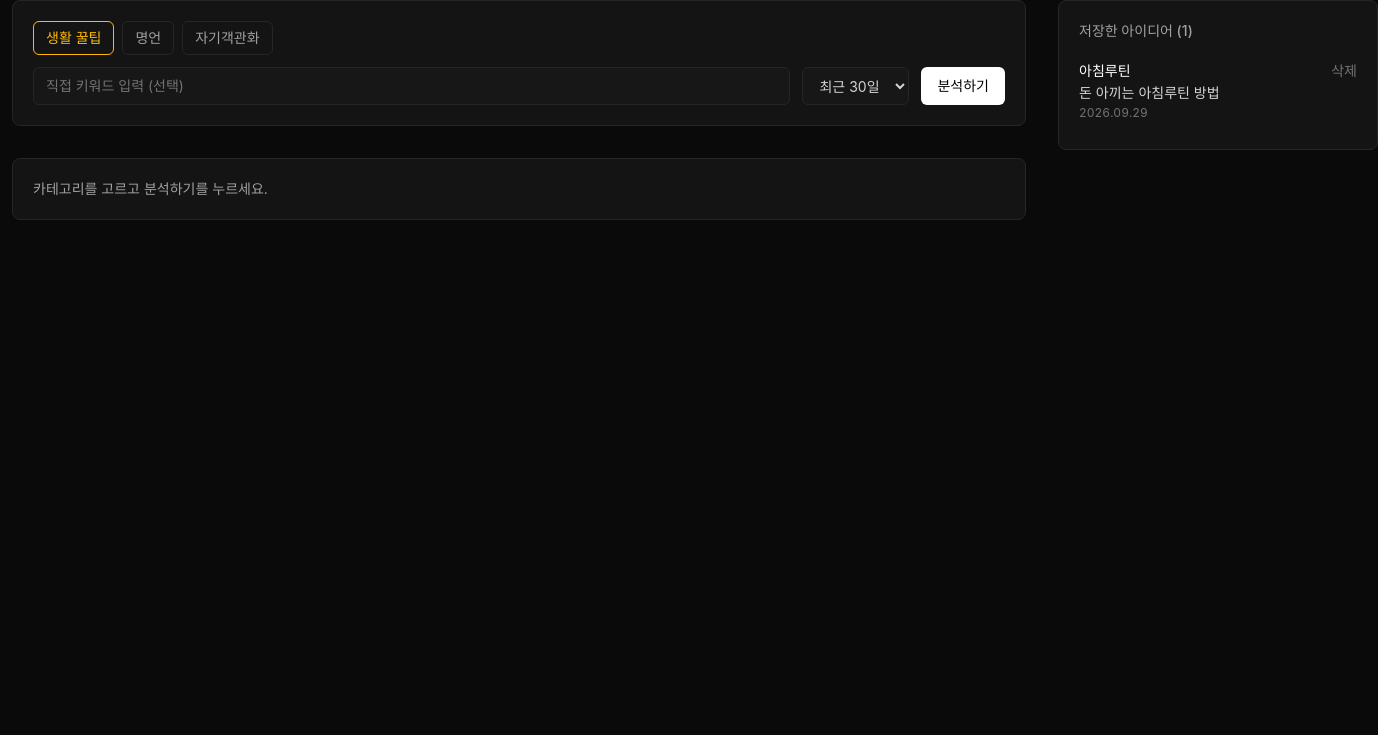
Test: Dashboard › 저장 › 이미 저장된 아이디어는 리포트에서 저장됨으로 표시한다
Step 1. Click the button "분석하기" → click(963, 86), box top-left (922, 67), bottom-right (1005, 105)
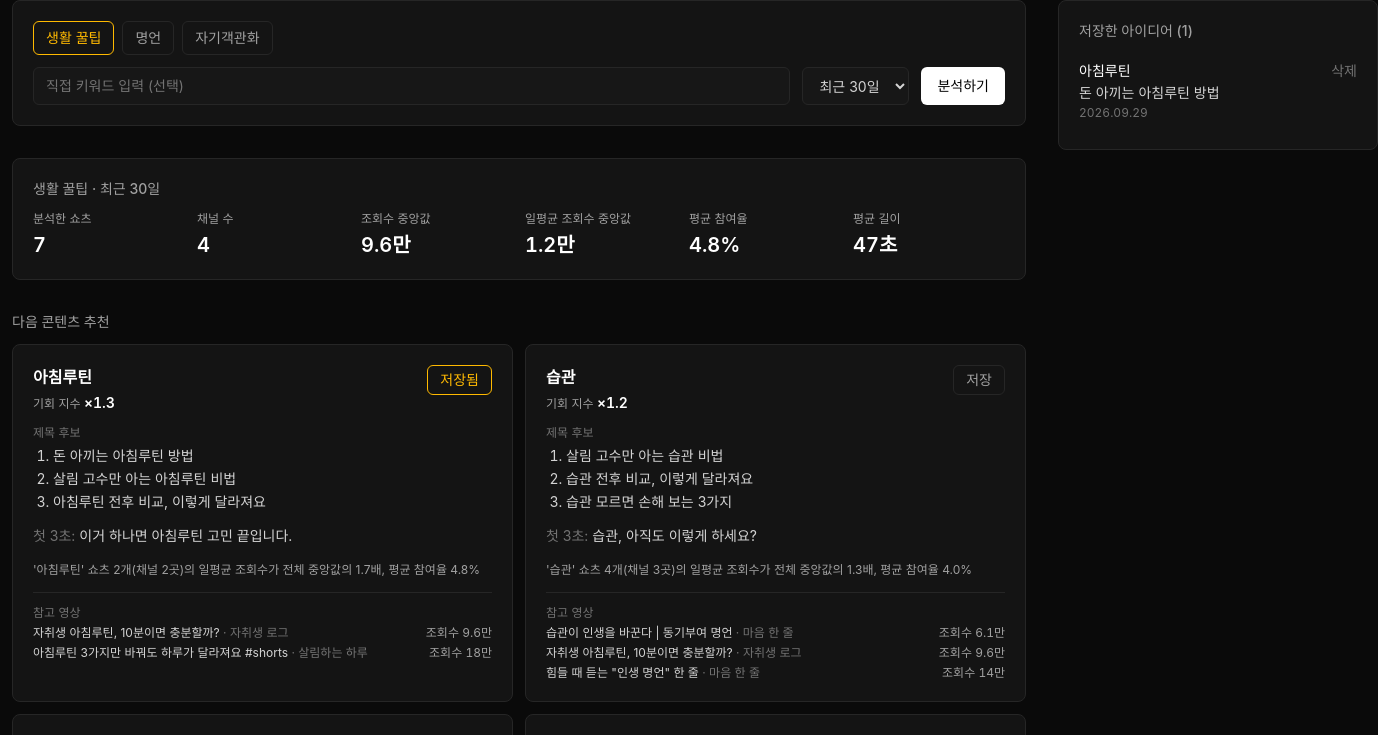
Expected: the button "저장됨" is shown, top-left (427, 365), bottom-right (492, 395)
